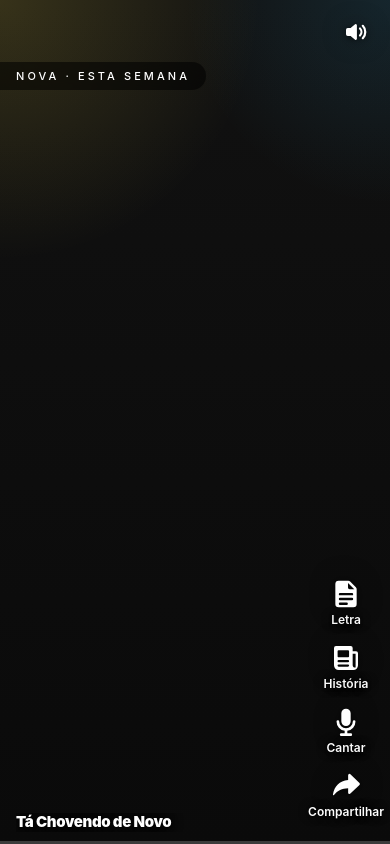
Test: Colonne droite — Som et História › always shows the month and year in the sheet, even for the song of the week
This screenshot has width=390, height=844.
Step 1. Click the button with aria-label "ler a história" → (346, 666), box [308, 640, 384, 692]
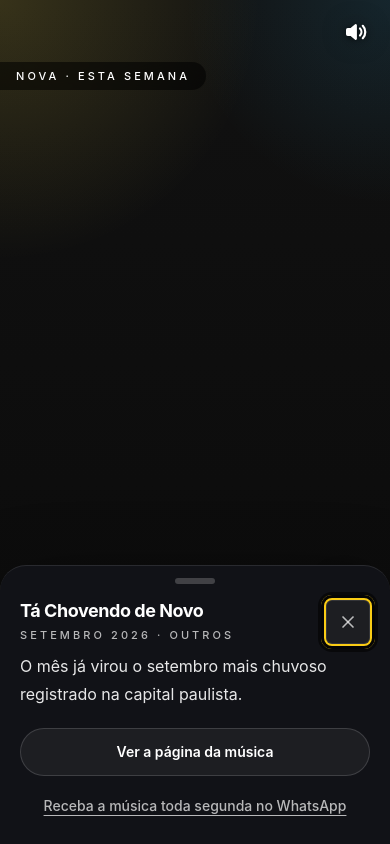
Now the text "setembro 2026 · Outros" is shown, box [20, 628, 234, 642]
